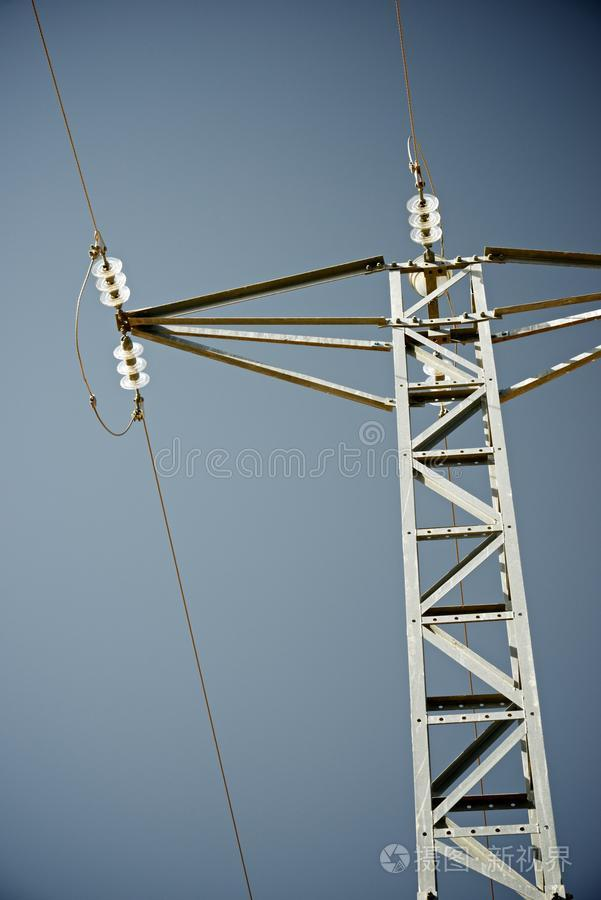insulator: (403, 194, 449, 245), (93, 257, 130, 309), (113, 340, 150, 391)
